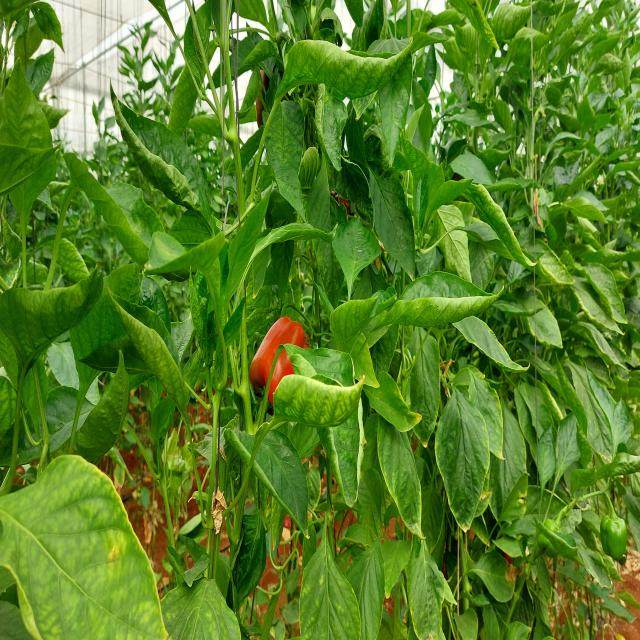BrownishRed--Can-be-Harvested: (238, 300, 317, 438)
